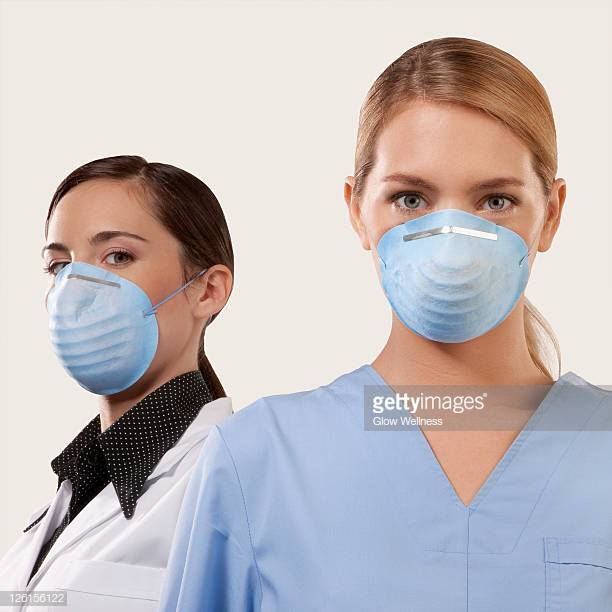mask: (374, 220, 532, 347), (33, 272, 169, 397)
